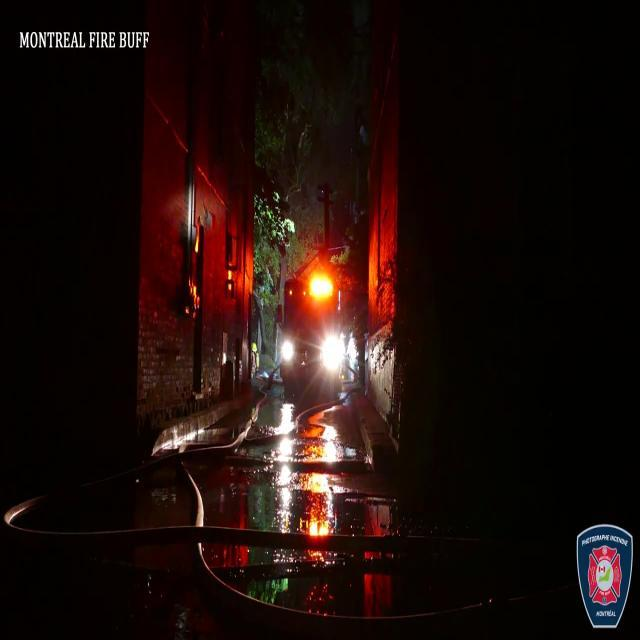Fire: (304, 506, 332, 544)
